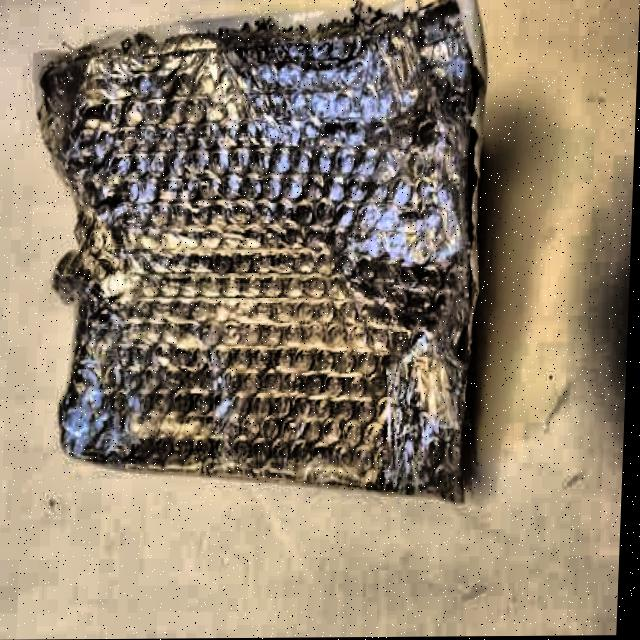plastic: (20, 0, 504, 503)
